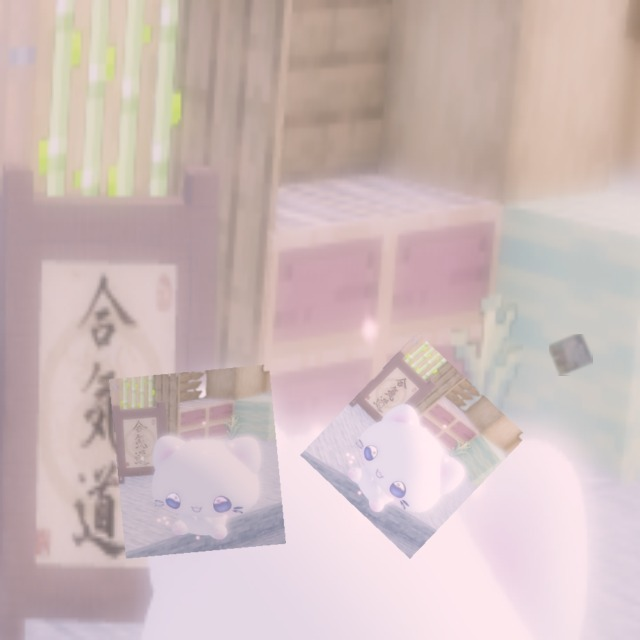urso_branco: (300, 332, 527, 559), (109, 364, 286, 559), (549, 334, 593, 376)
